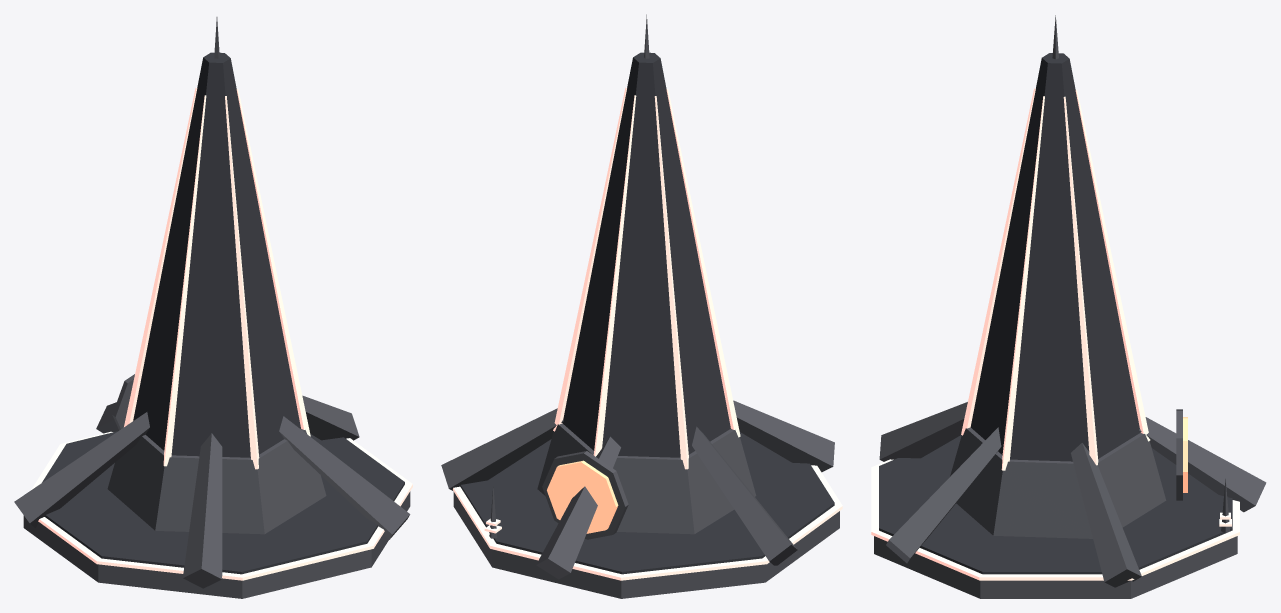
Rendered from zone_high_1_t2.glb.
The picture shows the model from 3 angles, left to right: view 1: azimuth 30°, elevation 25°; view 2: azimuth 150°, elevation 25°; view 3: azimuth 270°, elevation 25°; orthographic projection.
Visible parts, largest first — view 1: zone_high_1_t2; view 2: zone_high_1_t2; view 3: zone_high_1_t2.
Boxes of the visible parts, bbox=[...] form: zone_high_1_t2: bbox=[14, 17, 412, 598]; zone_high_1_t2: bbox=[441, 14, 842, 598]; zone_high_1_t2: bbox=[871, 15, 1266, 598].
Size of the model in its own units: 29.75 by 41.59 by 29.31.
